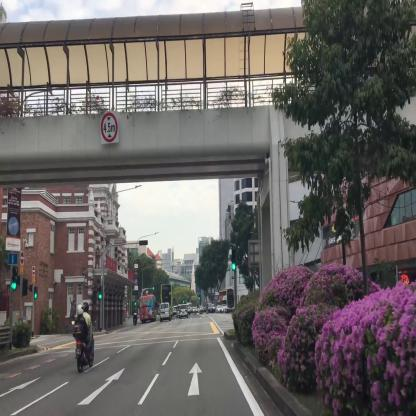green_traffic_light: (13, 267, 16, 289), (100, 285, 102, 298)
